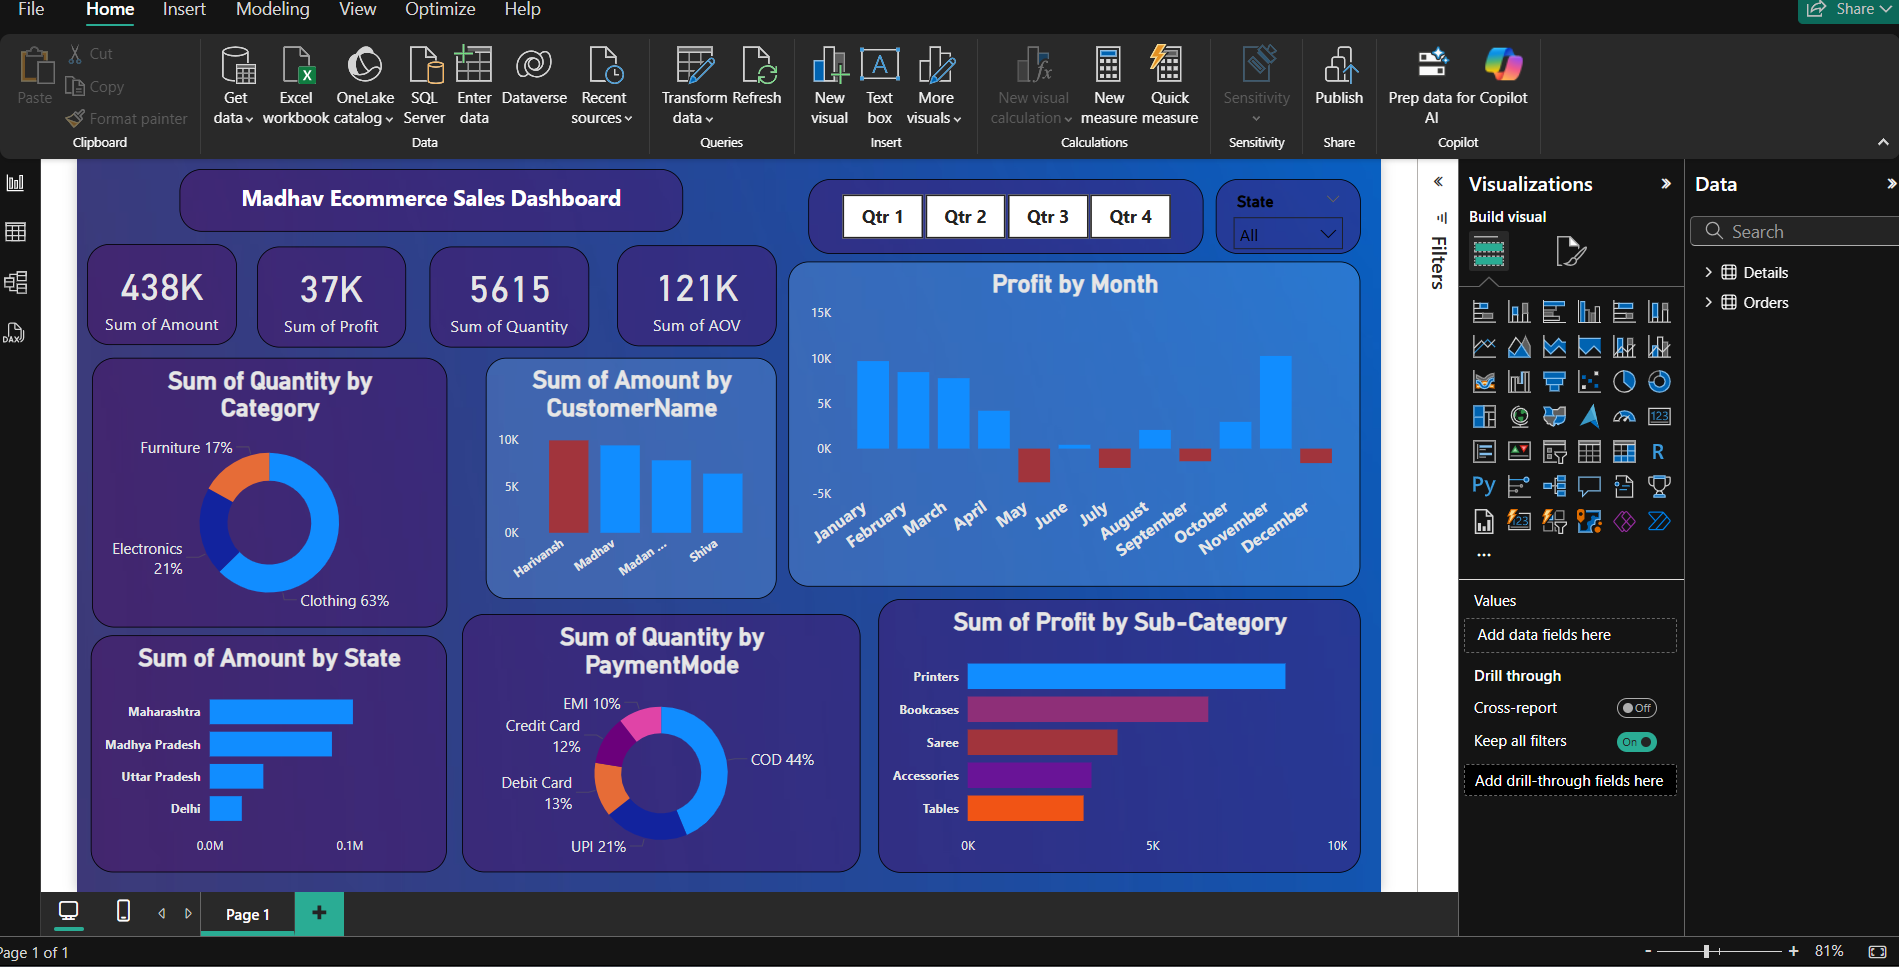

Layout of this report page (visuals, bound fields, positions):
{"tool":"powerbi","page":{"name":"Page 1","canvas":[1280,720],"ordinal":0},"visuals":[{"type":"textbox","box":[100.6,9.8,494.5,61.4],"z":0},{"type":"columnChart","title":" Profit by Month","fields":{"Y":["Details.Profit"],"Category":["Orders.Order Date.Variation.Date Hierarchy.Month"]},"box":[698.2,100.6,562,319],"z":1000},{"type":"barChart","fields":{"Category":["Details.Sub-Category"],"Y":["Details.Profit"]},"box":[786.3,432.2,473.4,269],"z":2000},{"type":"donutChart","fields":{"Category":["Details.Category"],"Y":["Details.Quantity"]},"box":[14.7,195.1,348.5,265],"z":3000},{"type":"donutChart","fields":{"Y":["Details.Quantity"],"Category":["Details.PaymentMode"]},"box":[377.9,446.6,391.4,254],"z":4000},{"type":"card","fields":{"Values":["Details.Amount"]},"box":[9.8,83.4,147.2,99.4],"z":5000},{"type":"card","fields":{"Values":["Details.Profit"]},"box":[176.7,85.9,146,99.4],"z":6000},{"type":"card","fields":{"Values":["Details.Quantity"]},"box":[346,85.9,157.1,99.4],"z":7000},{"type":"card","fields":{"Values":["Details.AOV"]},"box":[530.1,84.7,157.1,99.4],"z":8000},{"type":"barChart","fields":{"Category":["Orders.State"],"Y":["Details.Amount"]},"box":[13.5,467.5,349.7,233.1],"z":9000},{"type":"columnChart","fields":{"Category":["Orders.CustomerName"],"Y":["Details.Amount"]},"box":[401.2,195.1,285.9,236.8],"z":10000},{"type":"slicer","fields":{"Values":["Orders.State"]},"box":[1117.8,19.6,142.3,73.6],"z":10001},{"type":"slicer","fields":{"Values":["Orders.Order Date.Variation.Date Hierarchy.Quarter"]},"box":[717.8,19.6,387.7,73.6],"z":10002}]}

Visuals, with their boxes on the page's 1280x720 design canvas (x1, y1, x2, y2). These are canvas units, not pixel positions in the 1899x967 screenshot, which may show the page scaled, cropped or inside an application window:
textbox: {"x1": 101, "y1": 10, "x2": 595, "y2": 71}
" Profit by Month" columnChart: {"x1": 698, "y1": 101, "x2": 1260, "y2": 420}
barChart - Details.Sub-Category x Details.Profit: {"x1": 786, "y1": 432, "x2": 1260, "y2": 701}
donutChart - Details.Category x Details.Quantity: {"x1": 15, "y1": 195, "x2": 363, "y2": 460}
donutChart - Details.Quantity x Details.PaymentMode: {"x1": 378, "y1": 447, "x2": 769, "y2": 701}
card - Details.Amount: {"x1": 10, "y1": 83, "x2": 157, "y2": 183}
card - Details.Profit: {"x1": 177, "y1": 86, "x2": 323, "y2": 185}
card - Details.Quantity: {"x1": 346, "y1": 86, "x2": 503, "y2": 185}
card - Details.AOV: {"x1": 530, "y1": 85, "x2": 687, "y2": 184}
barChart - Orders.State x Details.Amount: {"x1": 14, "y1": 468, "x2": 363, "y2": 701}
columnChart - Orders.CustomerName x Details.Amount: {"x1": 401, "y1": 195, "x2": 687, "y2": 432}
slicer - Orders.State: {"x1": 1118, "y1": 20, "x2": 1260, "y2": 93}
slicer - Orders.Order Date.Variation.Date Hierarchy.Quarter: {"x1": 718, "y1": 20, "x2": 1106, "y2": 93}
